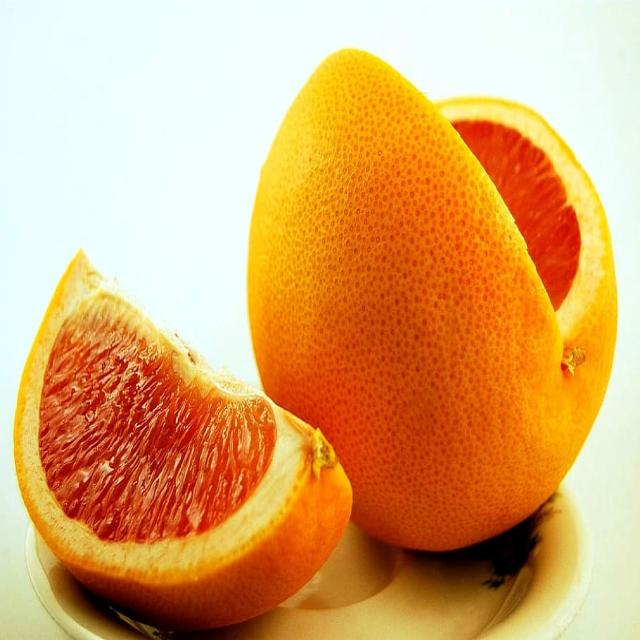orange: (246, 40, 616, 533), (16, 245, 342, 629)
